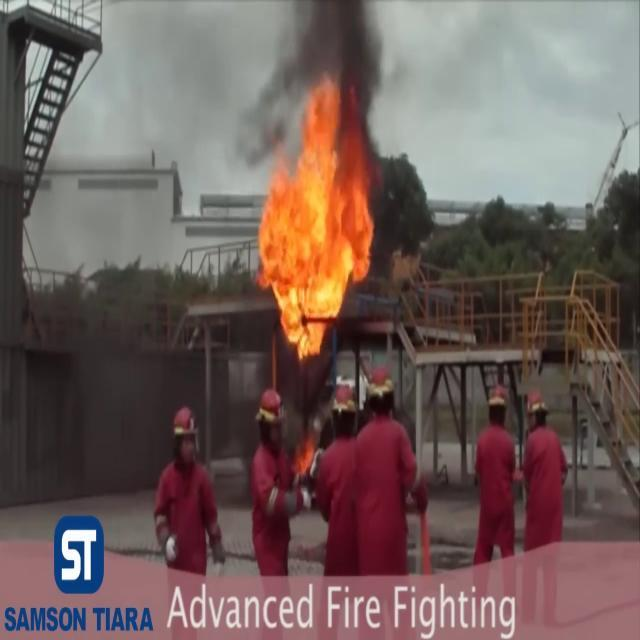Fire: (251, 75, 379, 361)
Smoke: (245, 0, 410, 154)
